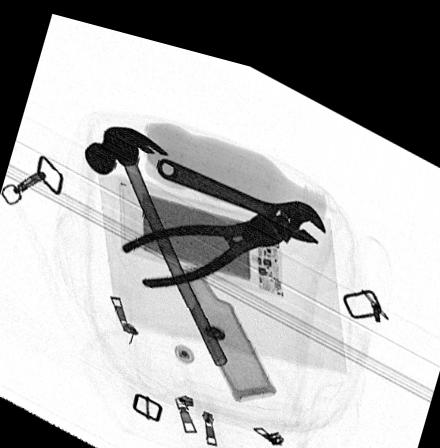Hammer: (84, 120, 229, 354)
Pliers: (121, 197, 289, 282)
Powerbank: (120, 177, 283, 282)
Wrench: (156, 150, 328, 228)
